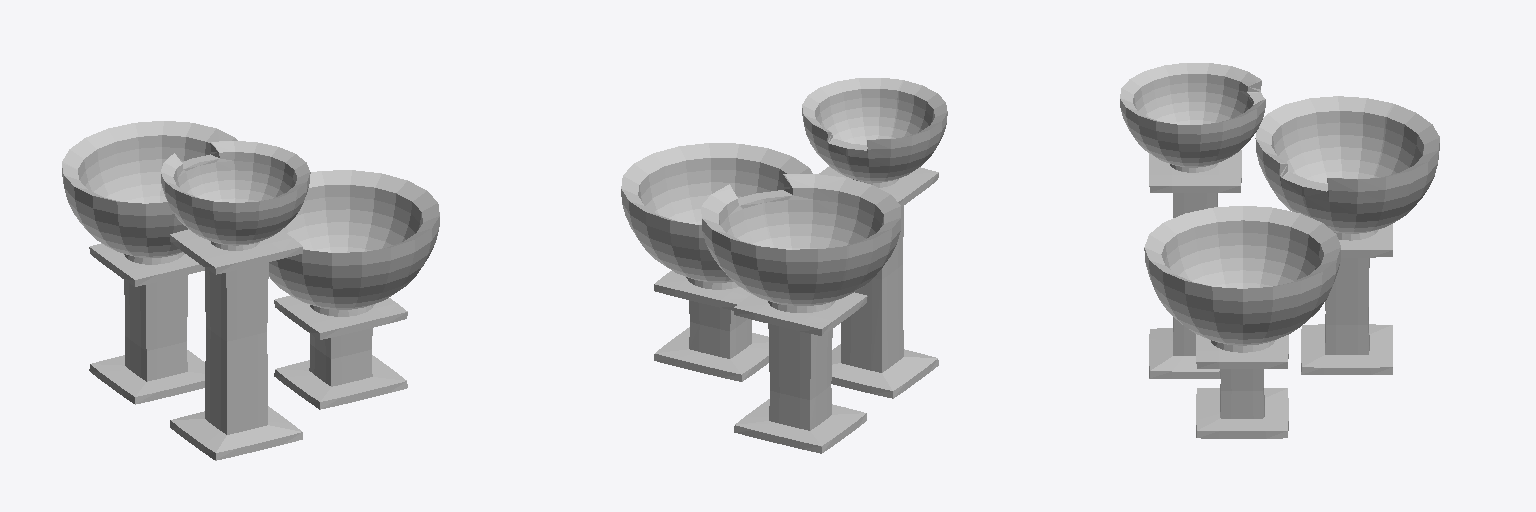
File: CorrectedWaterAltar.obj
The picture shows the model from 3 angles: view 1: azimuth 30°, elevation 25°; view 2: azimuth 150°, elevation 25°; view 3: azimuth 270°, elevation 25°; orthographic projection.
Visible parts, largest first — view 1: WaterUVs:Group19514, WaterUVs:Group19545, WaterUVs:Group19544, WaterUVs:Group19546, WaterUVs:Group19515, WaterUVs:Group19499; view 2: WaterUVs:Group19544, WaterUVs:Group19514, WaterUVs:Group19546, WaterUVs:Group19515, WaterUVs:Group19545, WaterUVs:Group19499; view 3: WaterUVs:Group19514, WaterUVs:Group19544, WaterUVs:Group19546, WaterUVs:Group19515, WaterUVs:Group19499, WaterUVs:Group19545.
Boxes of the visible parts, x1=… form: WaterUVs:Group19514: x1=269, y1=170, x2=439, y2=316; WaterUVs:Group19545: x1=170, y1=229, x2=302, y2=460; WaterUVs:Group19544: x1=62, y1=121, x2=237, y2=264; WaterUVs:Group19546: x1=161, y1=141, x2=310, y2=250; WaterUVs:Group19515: x1=89, y1=243, x2=204, y2=404; WaterUVs:Group19499: x1=274, y1=295, x2=407, y2=409; WaterUVs:Group19544: x1=701, y1=174, x2=900, y2=312; WaterUVs:Group19514: x1=621, y1=143, x2=812, y2=289; WaterUVs:Group19546: x1=802, y1=78, x2=947, y2=187; WaterUVs:Group19515: x1=734, y1=292, x2=867, y2=453; WaterUVs:Group19545: x1=819, y1=166, x2=938, y2=398; WaterUVs:Group19499: x1=654, y1=271, x2=768, y2=381; WaterUVs:Group19514: x1=1144, y1=206, x2=1340, y2=352; WaterUVs:Group19544: x1=1255, y1=96, x2=1439, y2=240; WaterUVs:Group19546: x1=1120, y1=63, x2=1265, y2=172; WaterUVs:Group19515: x1=1301, y1=224, x2=1392, y2=374; WaterUVs:Group19499: x1=1196, y1=334, x2=1288, y2=438; WaterUVs:Group19545: x1=1149, y1=150, x2=1241, y2=378.
Bounding box in the file's own units: 40.9 × 33.73 × 37.14.